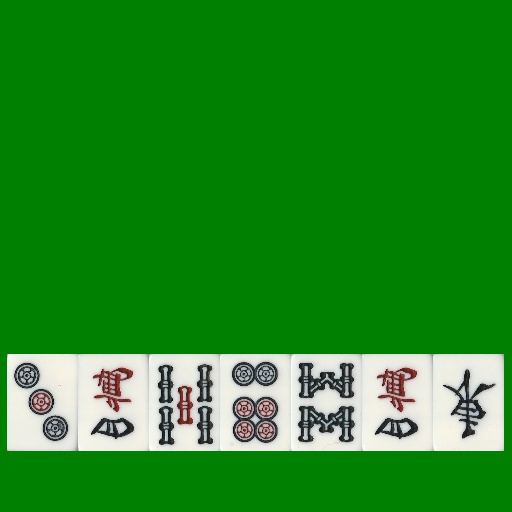3p: (7, 354, 78, 451)
4m: (78, 354, 149, 451), (362, 354, 433, 451)
5s: (149, 354, 220, 451)
6p: (220, 354, 291, 451)
8s: (291, 354, 362, 451)
east: (433, 354, 504, 451)
